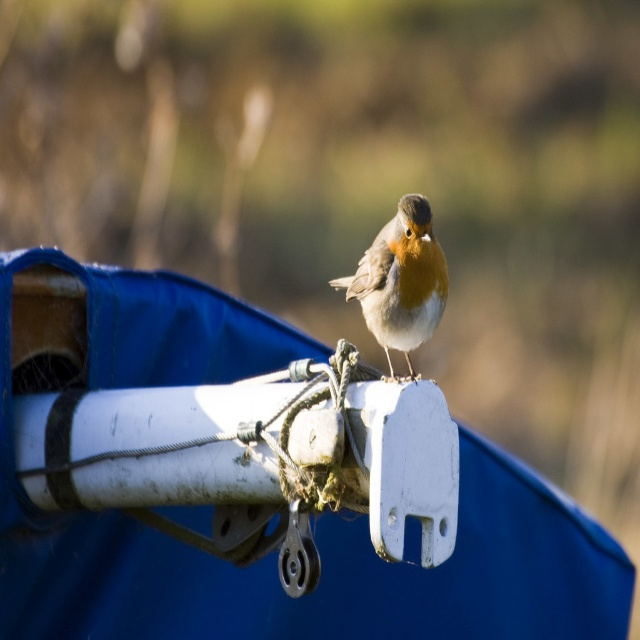Sparrow: (326, 190, 448, 383)
